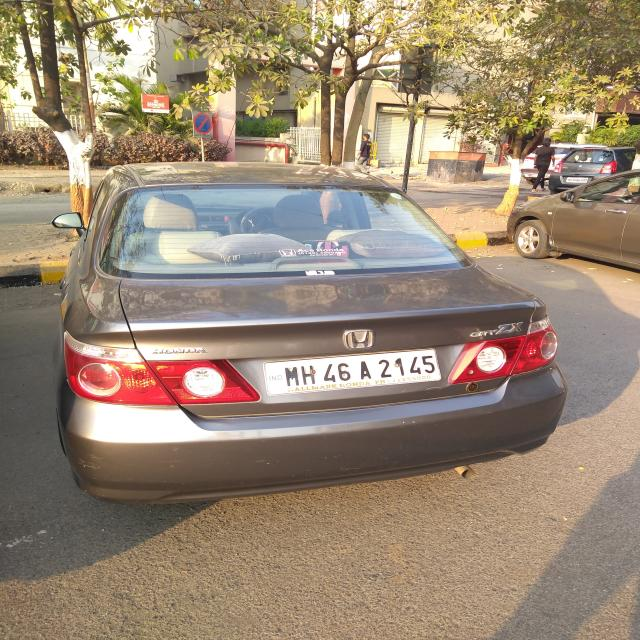Number-Plate: (264, 356, 446, 389)
